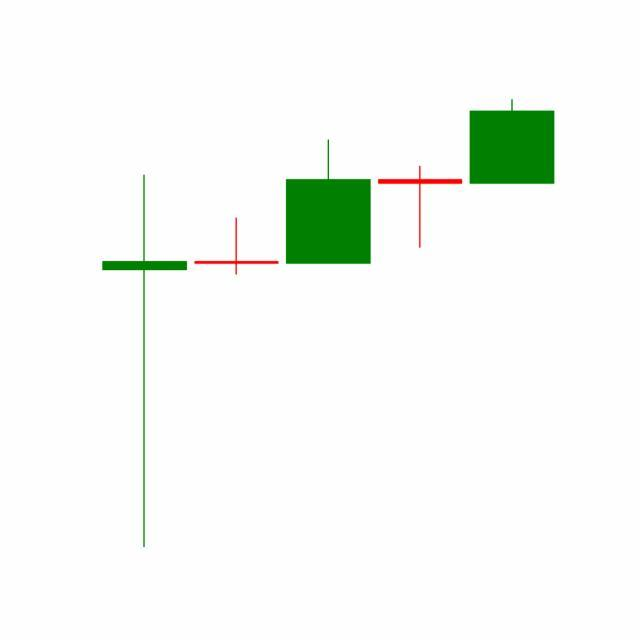Hammer: (374, 165, 468, 250)
